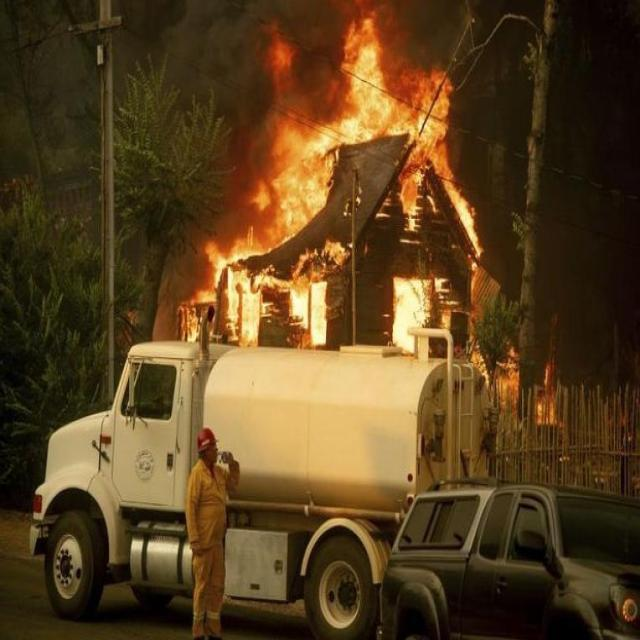Fire: (178, 4, 520, 390), (536, 363, 563, 427)
Smoke: (158, 1, 344, 168)
